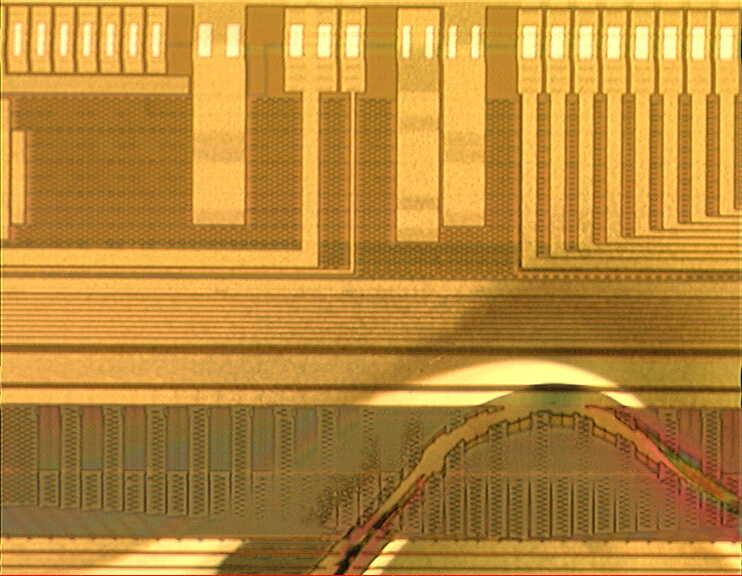COATING BAD: (75, 360, 742, 576)
